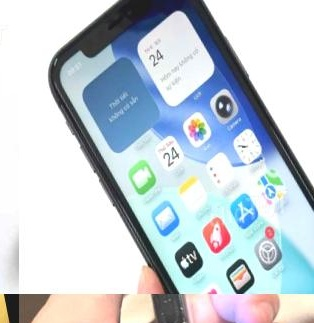scratch: (107, 294, 281, 323)
